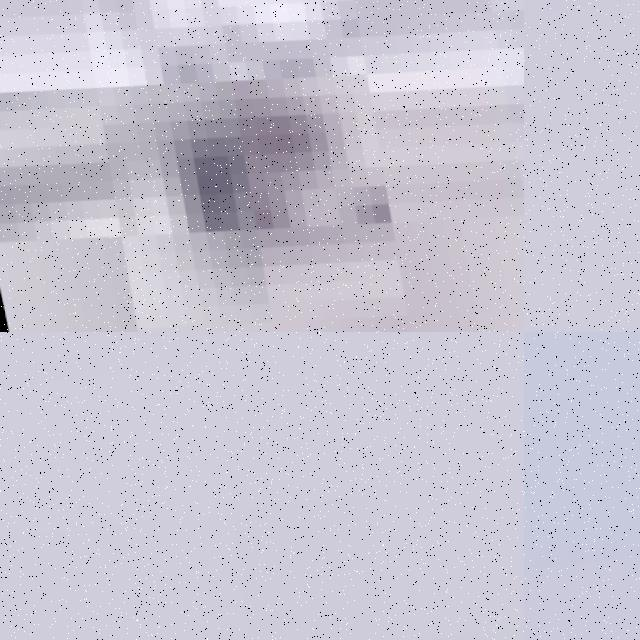drone: (0, 0, 524, 332)
